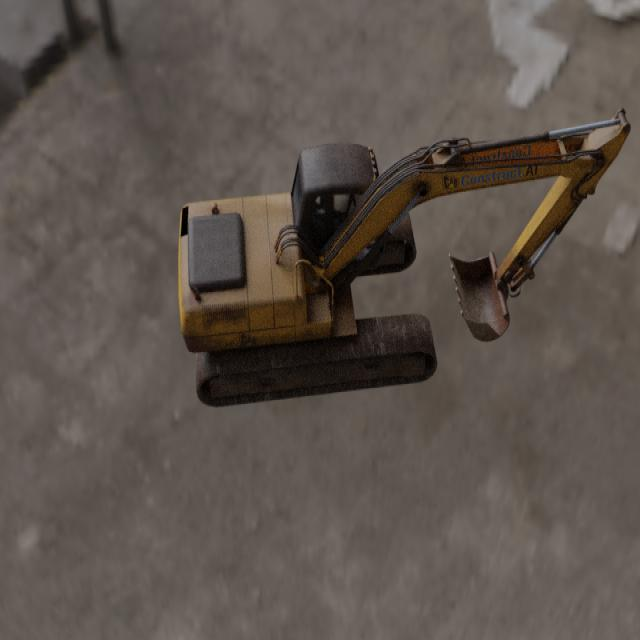excavator: (177, 106, 631, 406)
